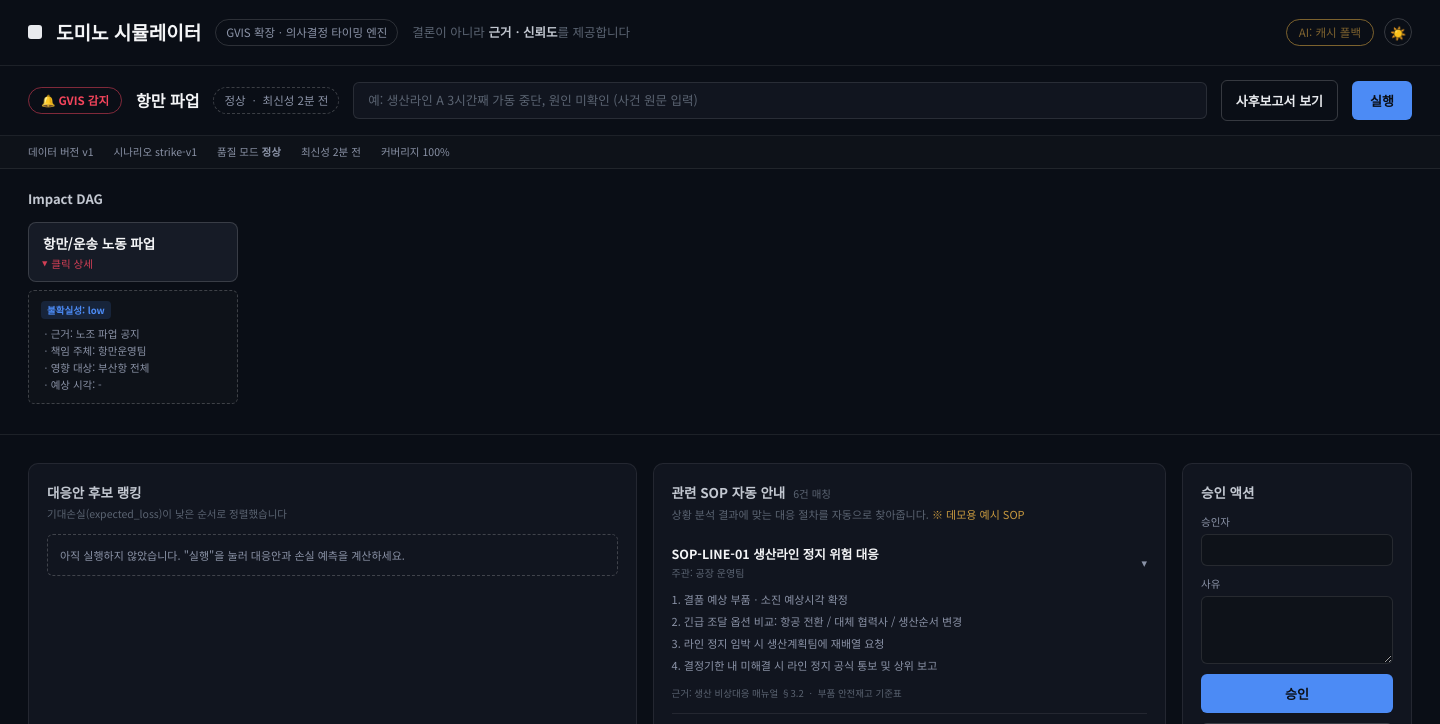
IncidentDetailPage — 다시 실행(재시뮬레이션) › 최초 실행 후 재시뮬레이션이 실패하면 에러 문구를 보여주고 기존 화면은 유지한다
Expected: the text "항만 파업" is shown, top-left (136, 88), bottom-right (199, 112)
Click the button "실행".
click(1382, 100)  # box top-left (1352, 80), bottom-right (1412, 120)
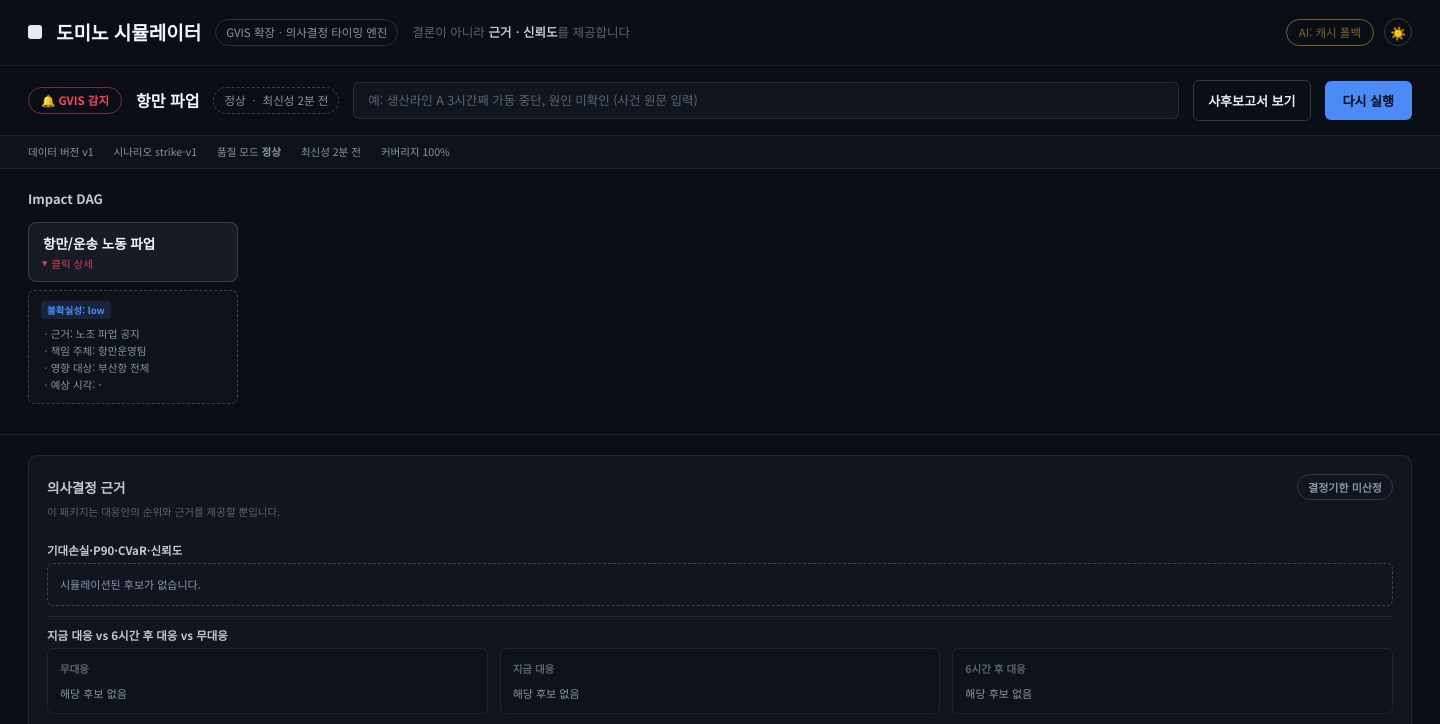
Click the button "다시 실행".
click(1368, 100)  # box top-left (1324, 80), bottom-right (1412, 120)
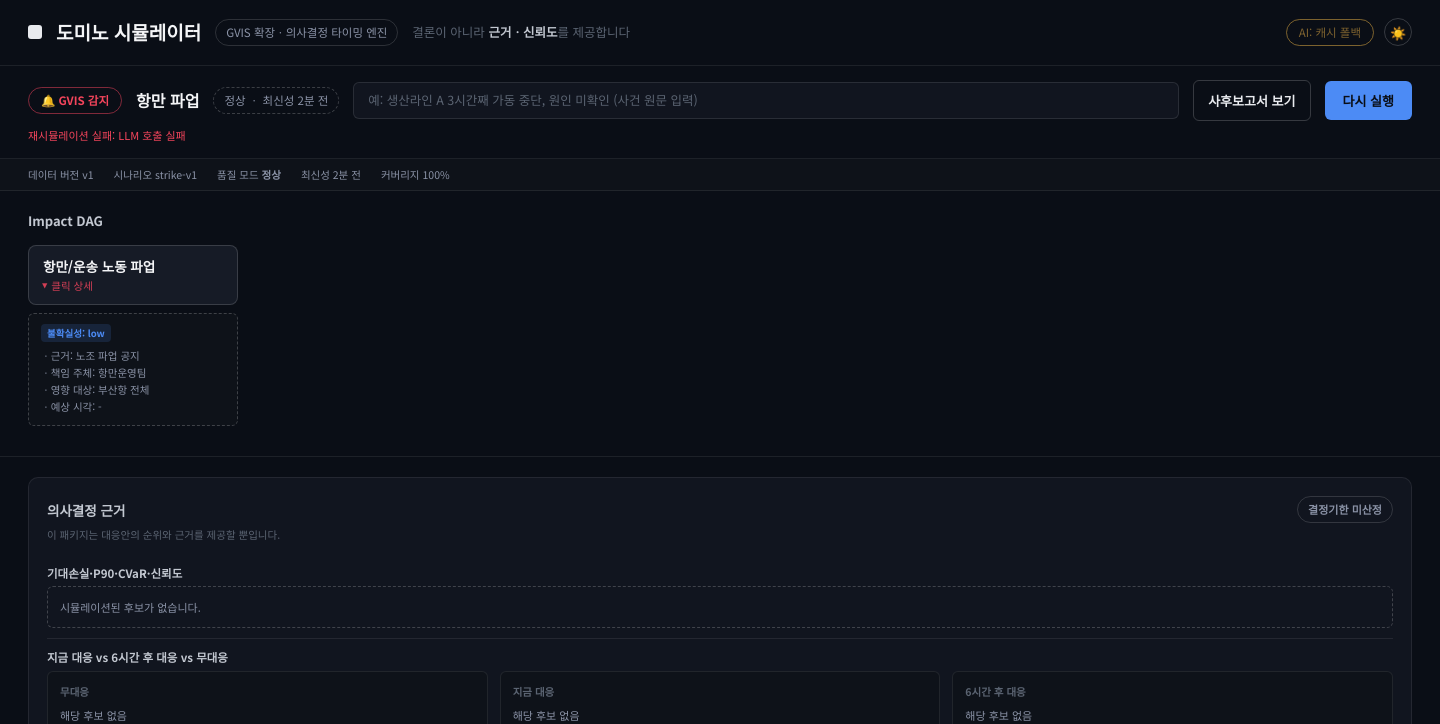
Expected: the button "다시 실행" is shown, top-left (1324, 80), bottom-right (1412, 120)
Expected: the text "재시뮬레이션 실패: LLM 호출 실패" is shown, top-left (28, 127), bottom-right (186, 143)
